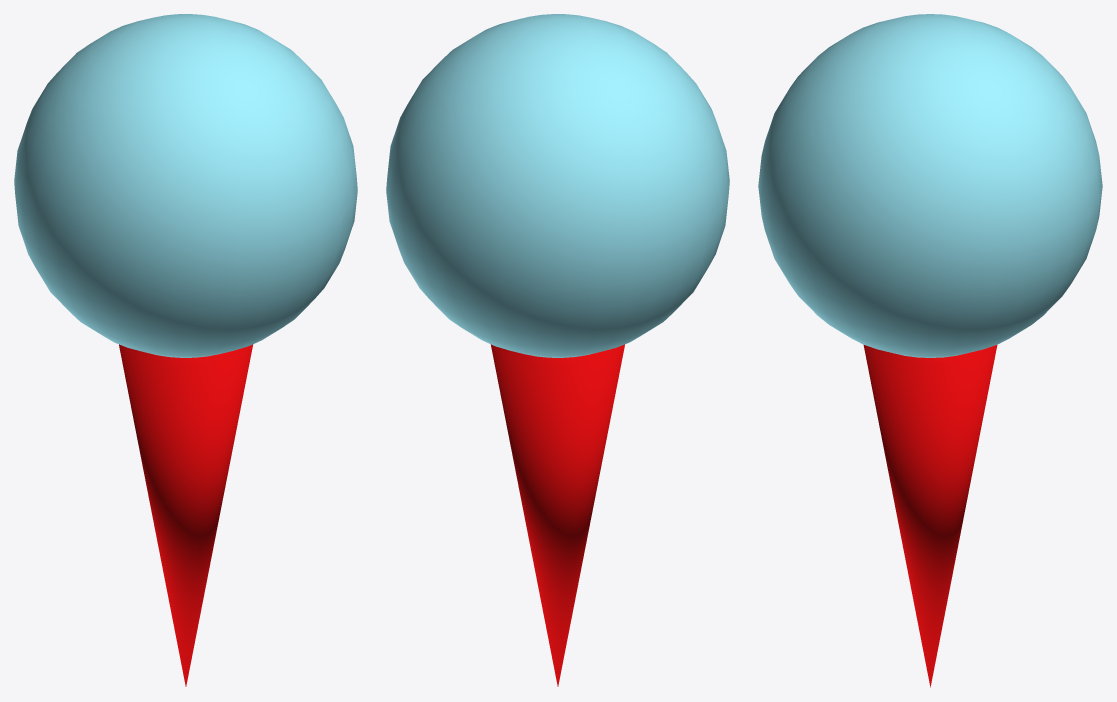
The model's file is Department Pin.glb.
3 renders of one model, left to right at view 1: azimuth 30°, elevation 25°; view 2: azimuth 150°, elevation 25°; view 3: azimuth 270°, elevation 25°, orthographic.
Parts seen in each view (by area): view 1: Pin; view 2: Pin; view 3: Pin.
Part boxes in pixels (bbox=[...]): Pin: bbox=[14, 14, 357, 686]; Pin: bbox=[386, 14, 729, 686]; Pin: bbox=[758, 14, 1102, 687].
Size of the model in its own units: 2 by 4.22 by 2.
Materials: 2 (1 with a texture image).
